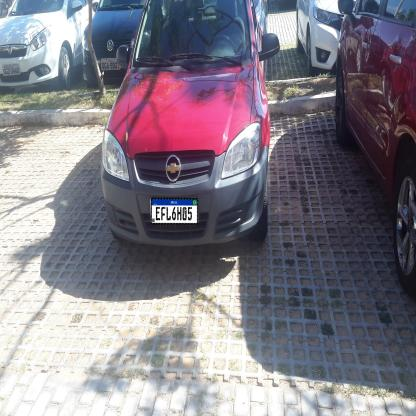PlacaM: (151, 198, 198, 224)
